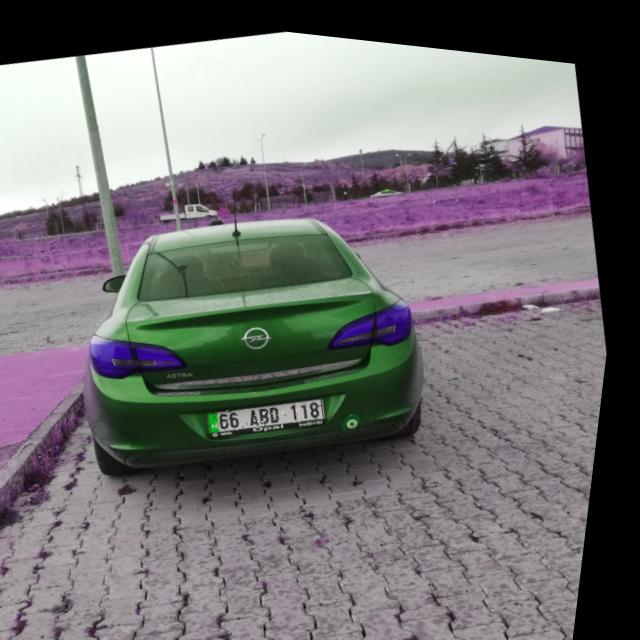license_plate: (214, 380, 336, 436)
